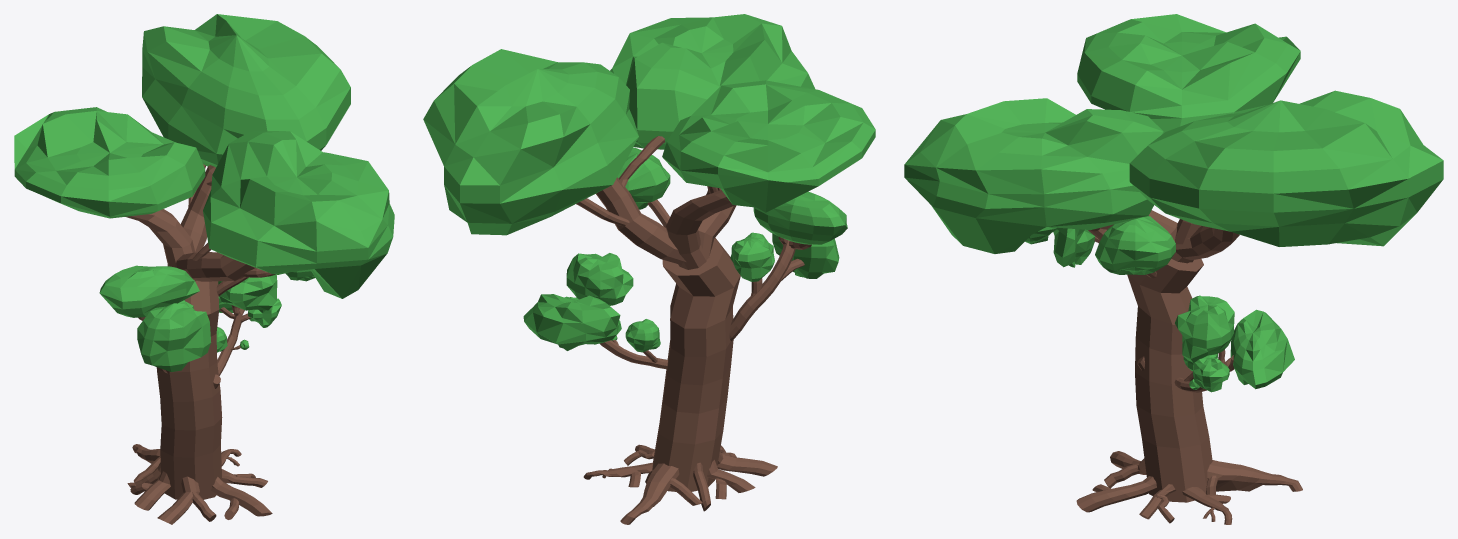
File: old_tree.glb
3 renders of one model, left to right at view 1: azimuth 30°, elevation 25°; view 2: azimuth 150°, elevation 25°; view 3: azimuth 270°, elevation 25°, orthographic. The views are drawn at different scales.
Visible parts, largest first — view 1: group1013485813, group470830306, group2102882934, group739545581, group2028584967, group1458414534, group1788544163, group1761565430, group1553637318, group1852867746, group229855917, group1287879969 (+3 smaller); view 2: group470830306, group2102882934, group1013485813, group739545581, group1198685851, group1458414534, group1852867746, group1553637318, group1761565430, group1156426880, group768589272, group1862560168 (+10 smaller); view 3: group470830306, group1013485813, group2102882934, group739545581, group1156426880, group1198685851, group1553637318, group967574188, group1852867746, group2028584967, group229855917, group204268831.
Boxes of the visible parts, x1,y1,x2,y2 form: group1013485813: (203, 131, 394, 298); group470830306: (142, 14, 350, 167); group2102882934: (14, 107, 205, 218); group739545581: (156, 280, 222, 499); group2028584967: (137, 303, 211, 371); group1458414534: (99, 265, 199, 317); group1788544163: (175, 252, 255, 281); group1761565430: (125, 209, 195, 267); group1553637318: (218, 274, 277, 310); group1852867746: (180, 165, 215, 252); group229855917: (211, 477, 272, 516); group1287879969: (157, 476, 199, 524); group470830306: (423, 49, 638, 235); group2102882934: (662, 80, 875, 212); group1013485813: (610, 14, 814, 149); group739545581: (652, 237, 740, 491); group1198685851: (523, 294, 621, 350); group1458414534: (753, 191, 847, 244); group1852867746: (596, 177, 686, 265); group1553637318: (566, 253, 633, 305); group1761565430: (666, 190, 734, 269); group1156426880: (617, 147, 670, 209); group768589272: (730, 232, 774, 281); group1862560168: (729, 240, 795, 341); group470830306: (1129, 90, 1443, 246); group1013485813: (904, 98, 1163, 253); group2102882934: (1077, 14, 1300, 132); group739545581: (1127, 258, 1212, 502); group1156426880: (1095, 216, 1175, 274); group1198685851: (1230, 309, 1294, 389); group1553637318: (1175, 295, 1234, 362); group967574188: (1207, 460, 1302, 491); group1852867746: (1171, 226, 1239, 263); group2028584967: (1053, 228, 1095, 267); group229855917: (1076, 476, 1156, 512); group204268831: (1193, 357, 1229, 392).
Size of the model in its own units: 13.91 by 15.67 by 17.25.
